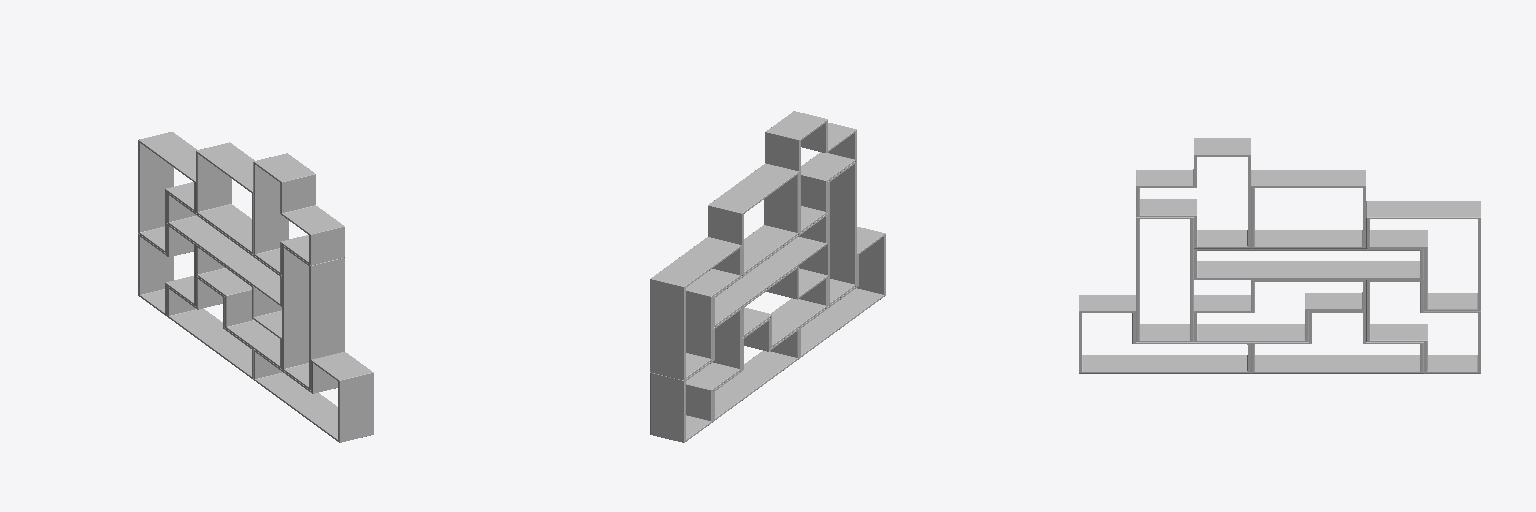
Rendered from Shelf.obj.
3 views of the same model, side by side, from view 1: azimuth 30°, elevation 25°; view 2: azimuth 150°, elevation 25°; view 3: azimuth 270°, elevation 25° (orthographic).
Visible parts, largest first — view 1: Cube.030; view 2: Cube.030; view 3: Cube.030.
Part boxes in pixels (x1,y1,x2,y2): Cube.030: (138,132,373,442); Cube.030: (650,111,885,442); Cube.030: (1079,138,1480,373).
Size of the model in its own units: 0.4561 by 2.79 by 4.65.